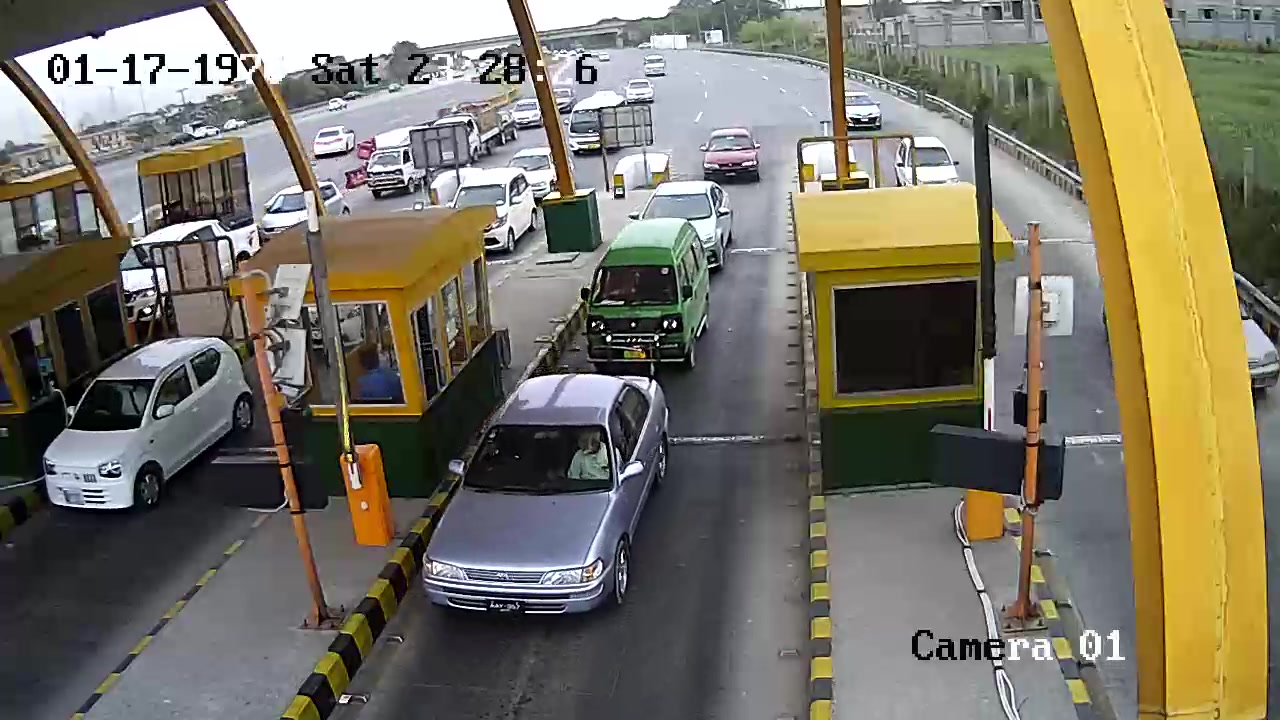F1: (410, 373, 693, 641), (571, 215, 716, 368)
